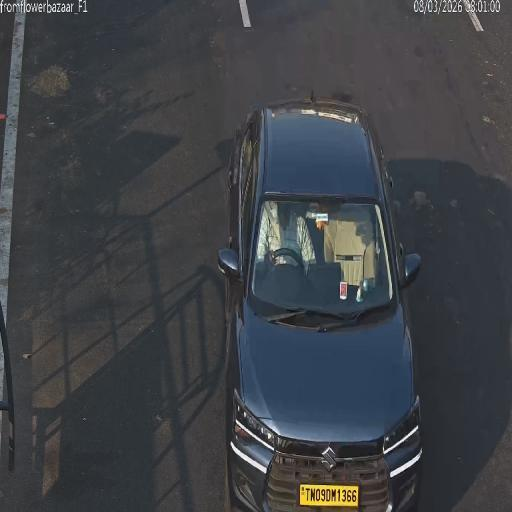person_with_seatbelt: (263, 197, 289, 271)
